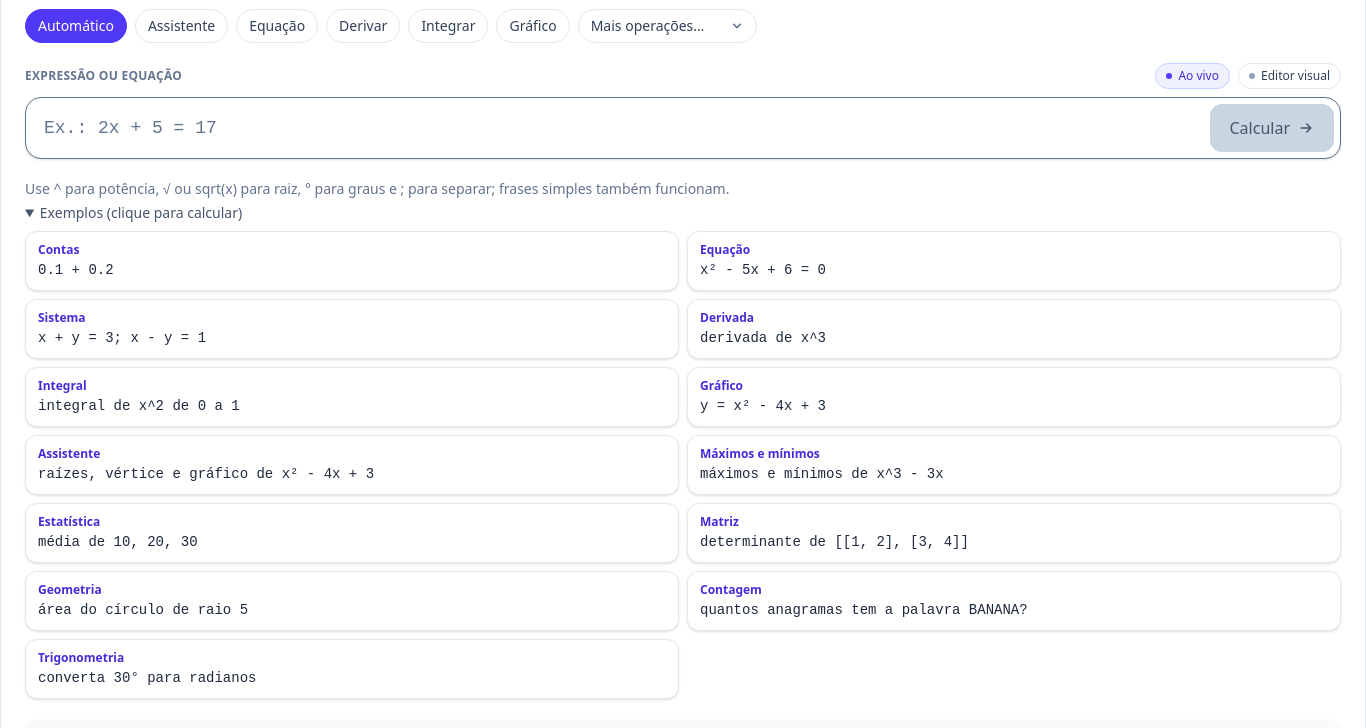
Calculator › shows when the API cannot be reached
Type "2 + 2" into the field labelled "Expressão ou equação" at [617, 128], box top-left (32, 104), bottom-right (1202, 152)
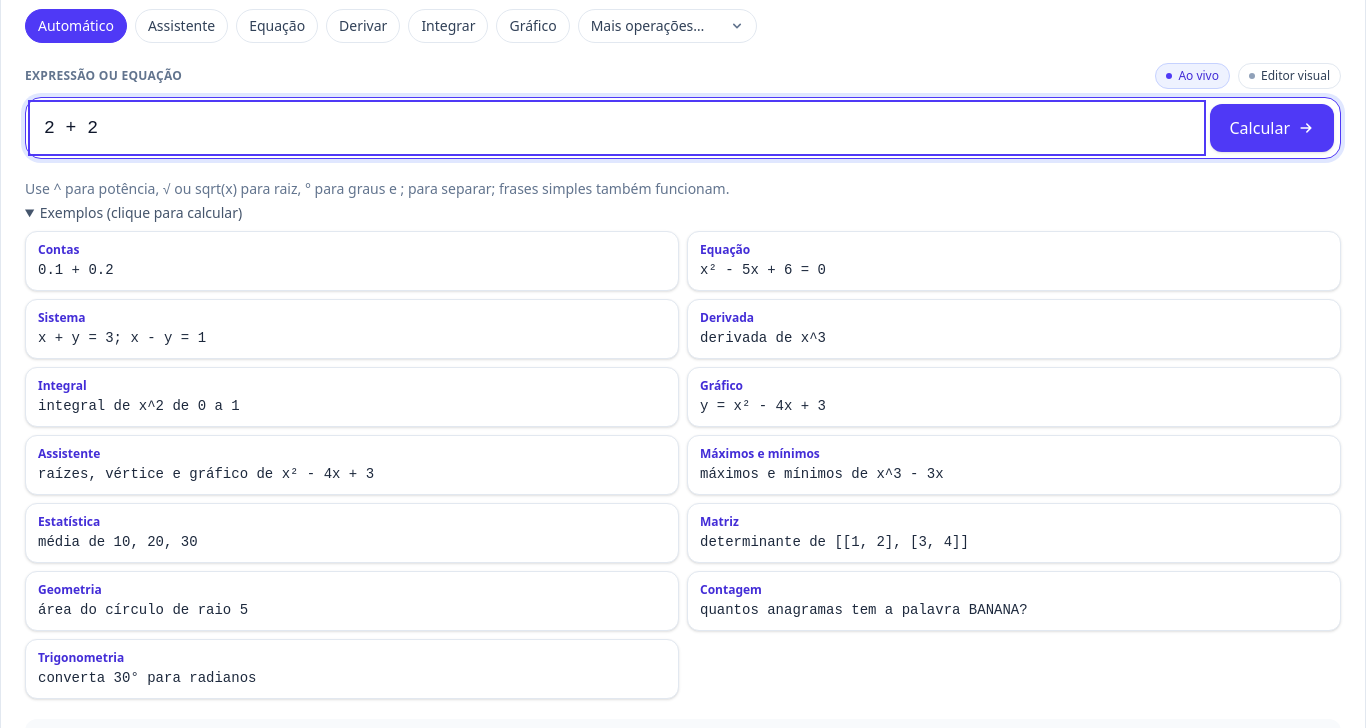
Click the button "Calcular" at [1272, 128], box top-left (1210, 104), bottom-right (1334, 152)
(page scrolled)
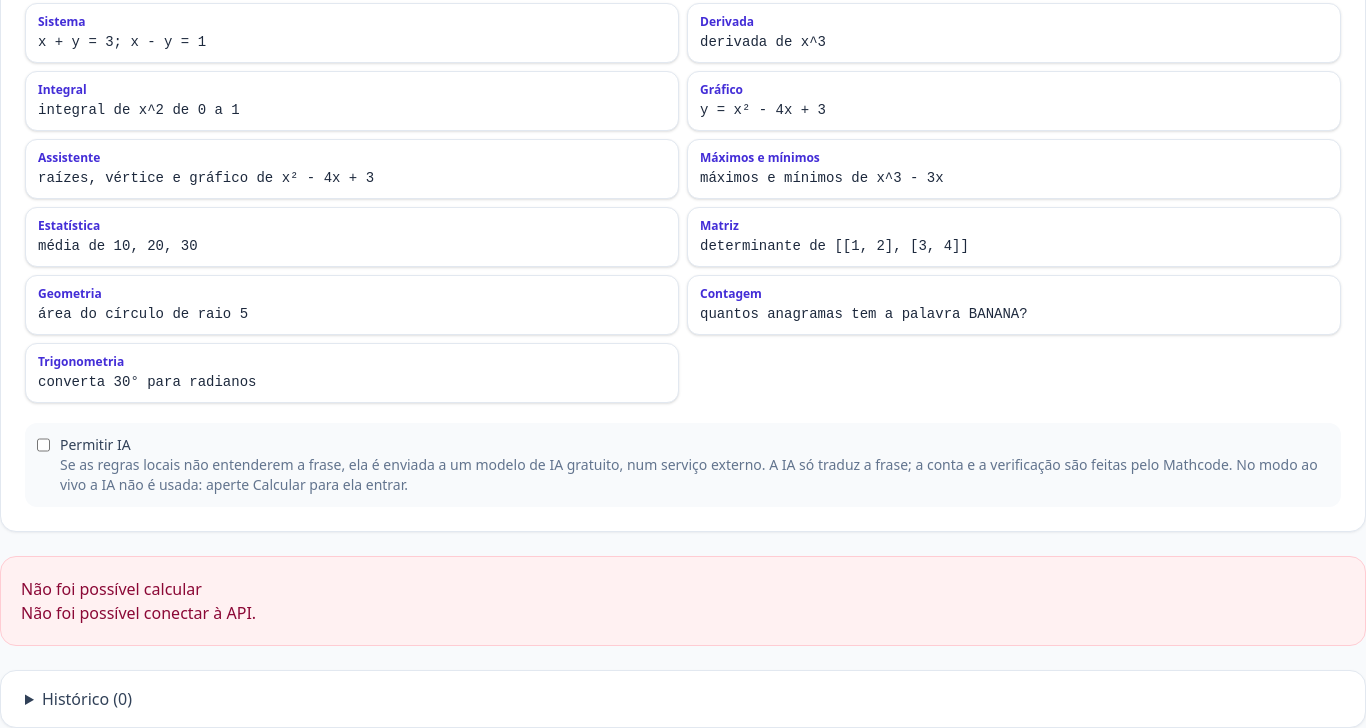
Now the message shows "Não foi possível conectar à API.", box top-left (21, 602), bottom-right (256, 624)
